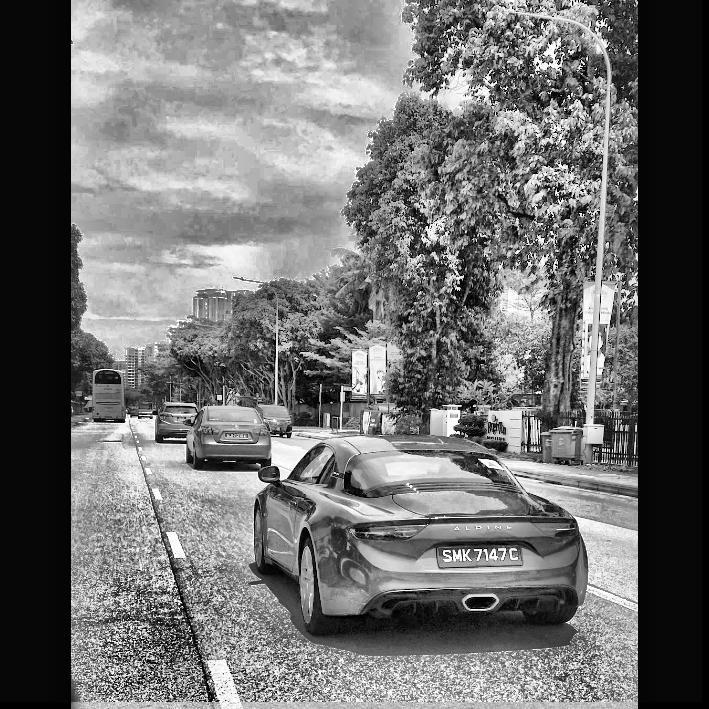License-Plates: (438, 547, 520, 564), (224, 433, 246, 437)
